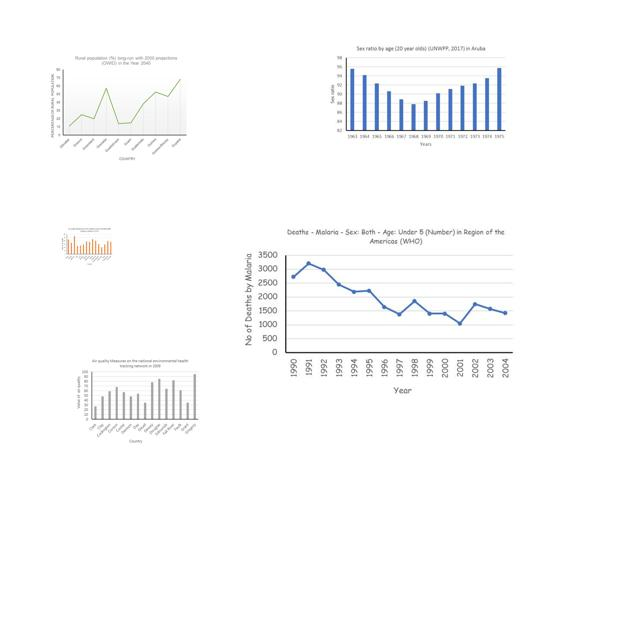Graph: (239, 224, 517, 397), (325, 42, 509, 149), (50, 54, 188, 161), (73, 356, 201, 445), (60, 227, 113, 266)
